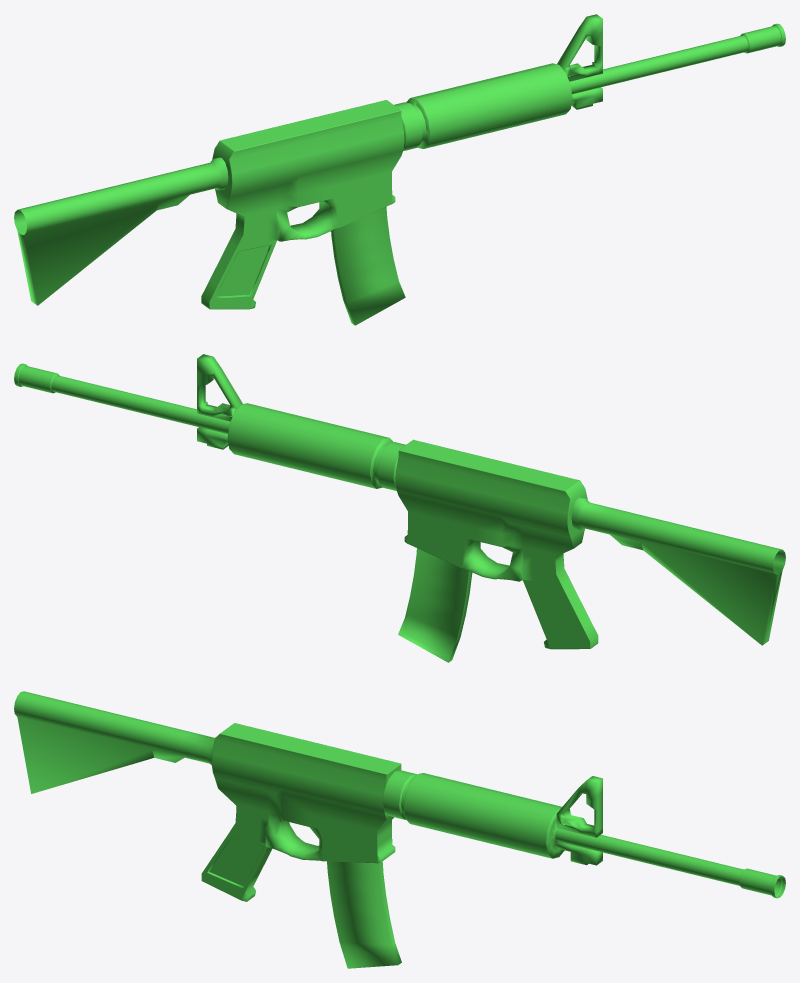
3 views of the same model, one above another, from view 1: azimuth 30°, elevation 25°; view 2: azimuth 150°, elevation 25°; view 3: azimuth 330°, elevation 25° (orthographic).
Parts seen in each view (by area): view 1: mag; view 2: mag; view 3: mag.
Part boxes in pixels (x1=…): mag: x1=14, y1=14, x2=785, y2=325; mag: x1=14, y1=354, x2=785, y2=662; mag: x1=14, y1=691, x2=785, y2=968.
Size of the model in its own units: 141 by 43.58 by 8.48.
